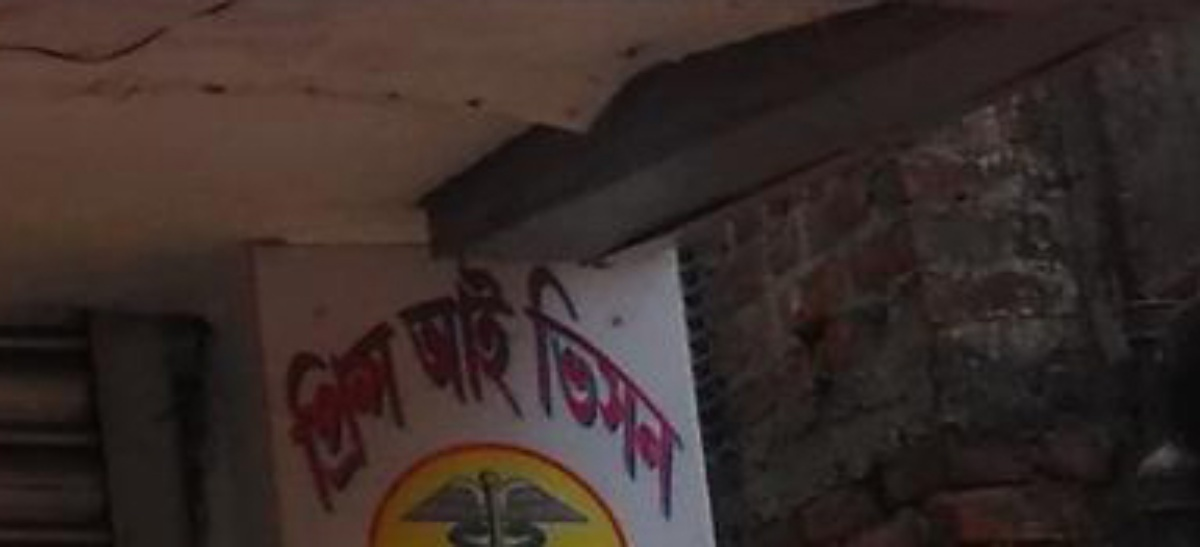text: (529, 219, 544, 522), (545, 219, 560, 522), (561, 219, 576, 522), (577, 219, 592, 522), (593, 219, 608, 522), (609, 219, 624, 522), (625, 219, 640, 522), (641, 219, 656, 522), (657, 219, 672, 522), (673, 219, 688, 522), (516, 219, 528, 522), (273, 297, 288, 529), (289, 297, 304, 529), (305, 297, 320, 529), (321, 297, 336, 529), (337, 297, 352, 529), (353, 297, 368, 529), (369, 297, 384, 529), (385, 297, 400, 529), (401, 297, 416, 529), (260, 297, 272, 529), (417, 297, 429, 529), (385, 241, 400, 416), (401, 241, 416, 416), (417, 241, 432, 416), (433, 241, 448, 416), (449, 241, 464, 416), (465, 241, 480, 416), (481, 241, 496, 416), (497, 241, 512, 416), (513, 241, 526, 416), (382, 241, 384, 416)
